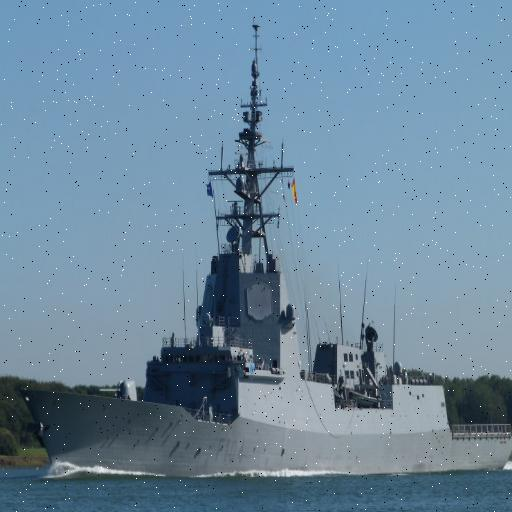Fragata: (15, 18, 512, 483)
